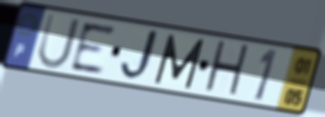1: (254, 48, 279, 104)
E: (68, 20, 118, 75)
H: (201, 38, 252, 101)
J: (118, 28, 165, 83)
M: (152, 32, 207, 91)
U: (34, 11, 83, 71)
